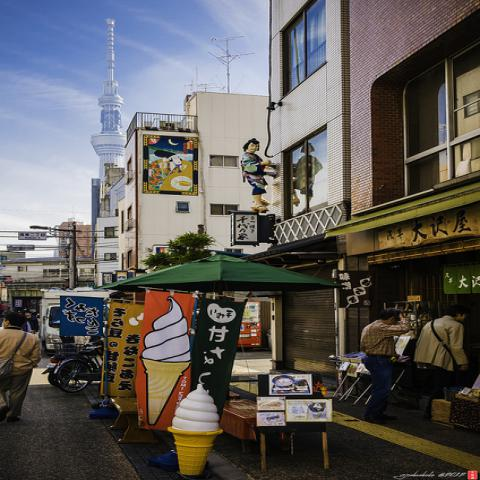truck: (38, 291, 117, 353)
